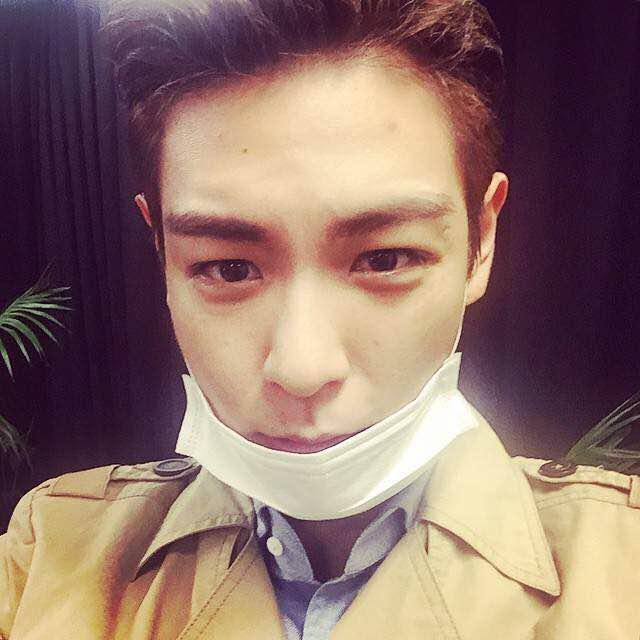WRONG: (164, 197, 477, 510)
